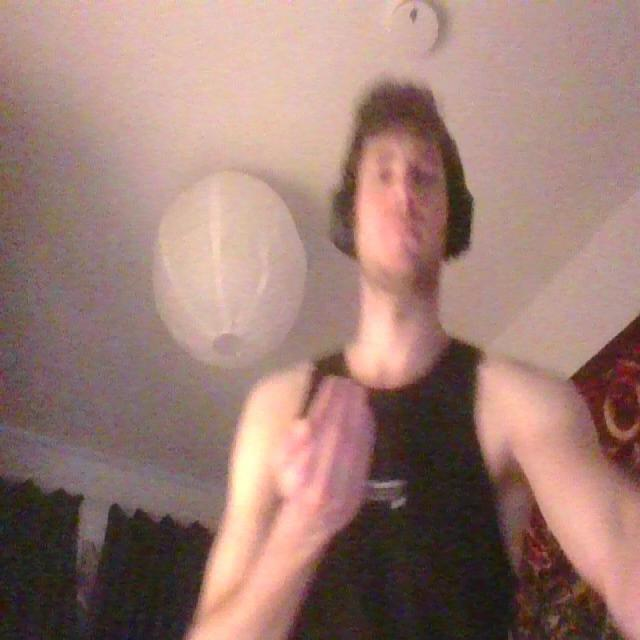forward: (272, 364, 380, 532)
